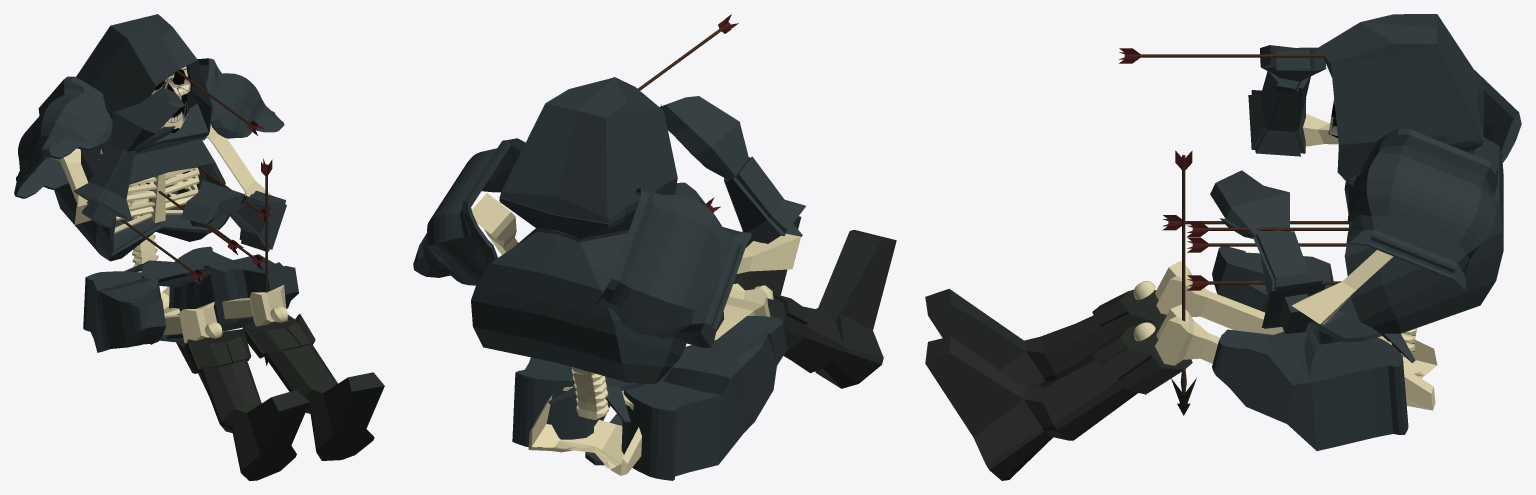
Rendered from SM_DeadSkeleton_02.fbx.
3 views of the same model, side by side, from view 1: azimuth 30°, elevation 25°; view 2: azimuth 150°, elevation 25°; view 3: azimuth 270°, elevation 25° (orthographic). The views are drawn at different scales.
Parts seen in each view (by area): view 1: DeadSkeleton2; view 2: DeadSkeleton2; view 3: DeadSkeleton2.
Boxes of the visible parts, <box> form: DeadSkeleton2: <box>14,14,384,480</box>; DeadSkeleton2: <box>413,14,896,480</box>; DeadSkeleton2: <box>925,14,1521,480</box>.
Bounding box in the file's own units: 0.854 × 1.16 × 1.45.
